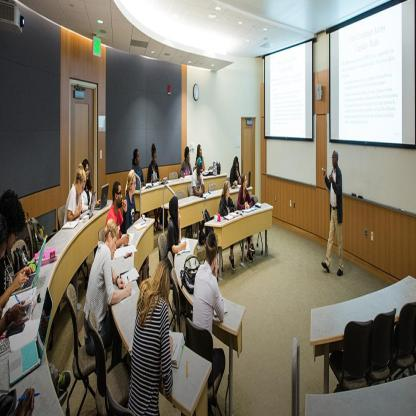head: (1, 188, 22, 254), (102, 214, 119, 260), (155, 255, 170, 299), (203, 227, 217, 269), (110, 179, 123, 213), (125, 170, 138, 198), (74, 160, 85, 193), (168, 191, 178, 220), (81, 153, 89, 182), (222, 178, 231, 200), (331, 148, 340, 169), (184, 144, 192, 165), (194, 155, 202, 174), (133, 146, 139, 169), (151, 140, 156, 164), (232, 152, 238, 172), (196, 144, 203, 161), (241, 172, 248, 189)
